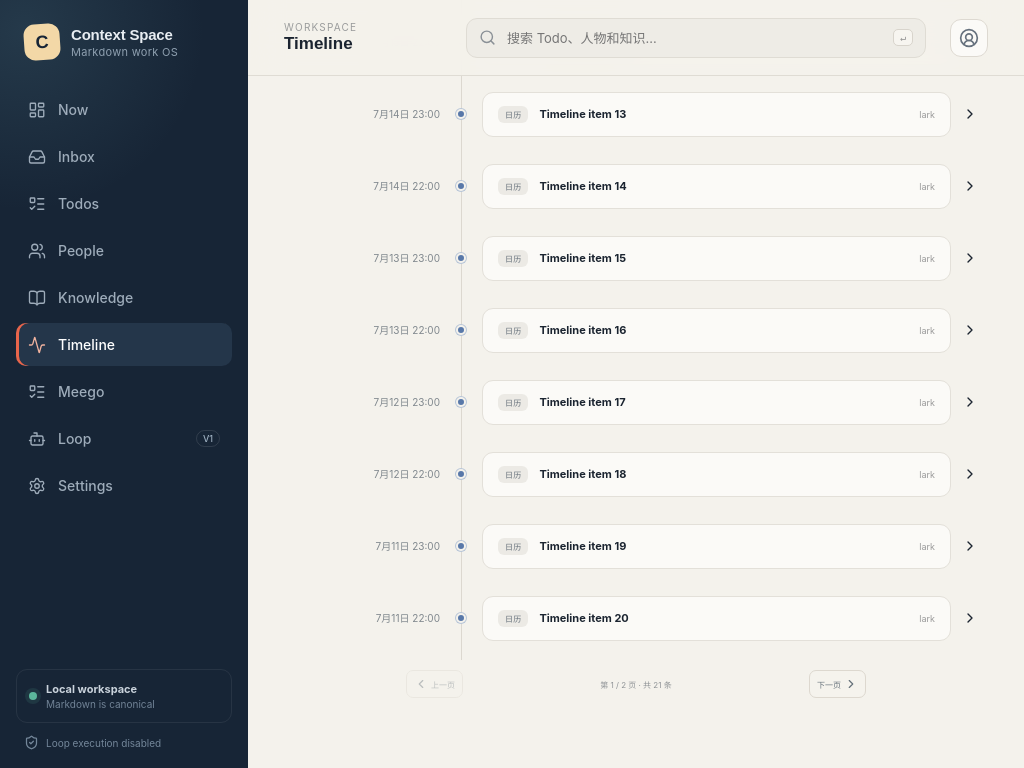
Test: Context Space workbench › paginates calendar-only Timeline and gives the time column enough structure
The width and height of the screenshot is (1024, 768).
(page scrolled)
Expected: the text "Timeline item 21" is not shown
Expected: the text "第 1 / 2 页 · 共 21 条" is shown, [600, 680, 672, 690]
Click the button with aria-label "下一页 Timeline" at (838, 684), box [809, 670, 866, 698]
(page scrolled)
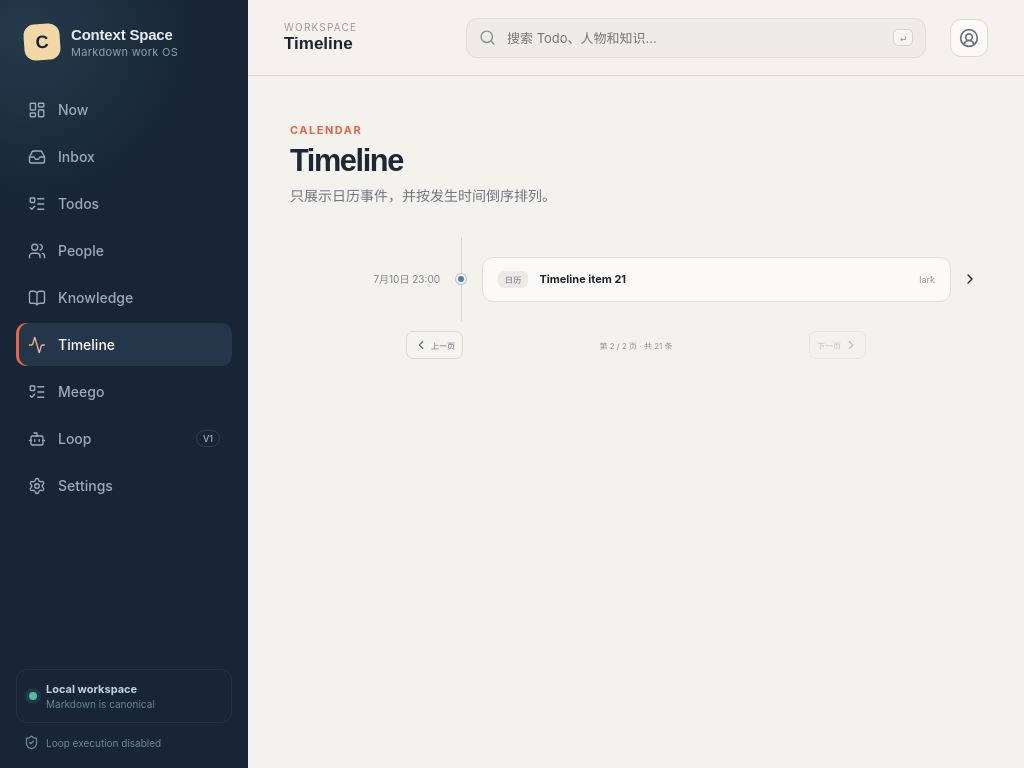
Expected: the link "Timeline item 1" is not shown
Expected: the text "Timeline item 21" is shown, [539, 272, 626, 286]
Expected: the text "第 2 / 2 页 · 共 21 条" is shown, [599, 341, 672, 351]
